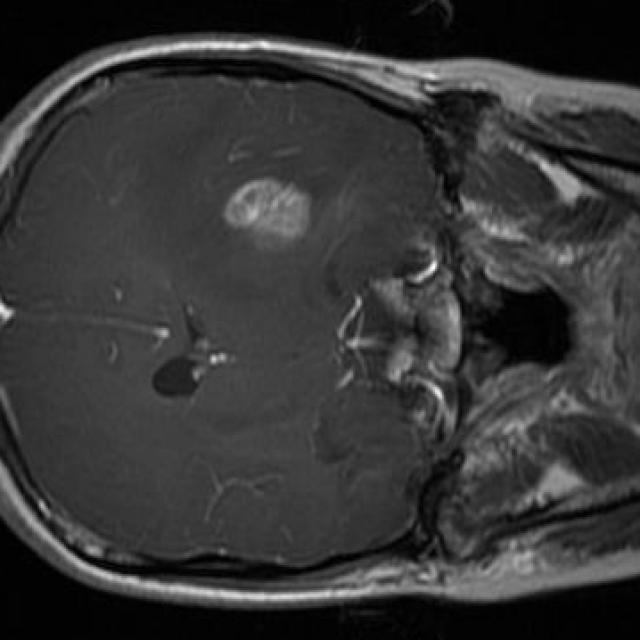glioma: (223, 178, 310, 250)
